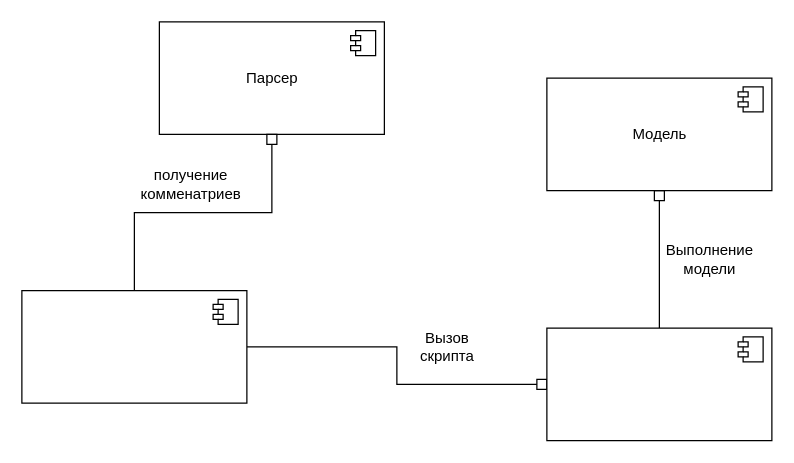
Some shapes in this 794 by 463 pixel diagram are drawn without their labels. The centre of each missing label's shape, as x and y in pixels:
"Main" goes at pixel 134 346.
"python-скрипт" goes at pixel 659 384.
